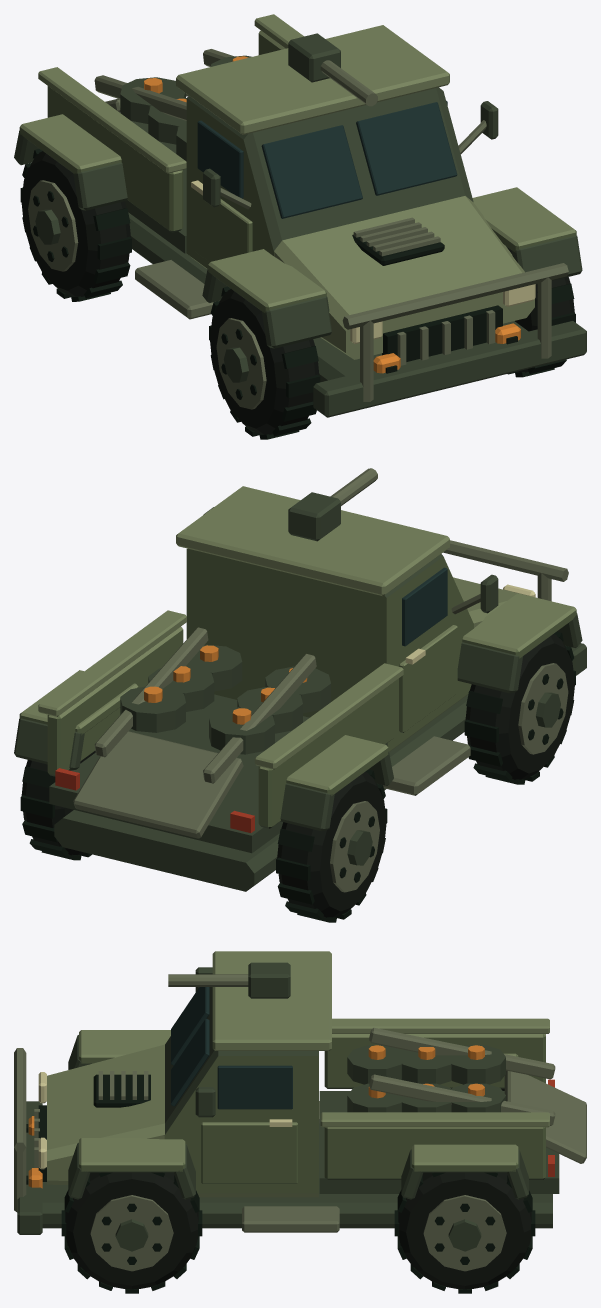
File: minelayer_field.glb
The picture shows the model from 3 angles, top to bottom: view 1: azimuth 30°, elevation 25°; view 2: azimuth 150°, elevation 25°; view 3: azimuth 270°, elevation 25°; orthographic projection. The views are drawn at different scales.
Visible parts, largest first — view 1: Body, Wheel_-1_1.18, Wheel_-1_-1.17, WeaponPitch, Wheel_1_-1.17; view 2: Body, Wheel_-1_1.18, Wheel_-1_-1.17, Wheel_1_1.18, WeaponPitch; view 3: Body, Wheel_1_1.18, Wheel_1_-1.17, WeaponPitch.
Part boxes in pixels (x1=…): Body: x1=14, y1=14, x2=586, y2=417; Wheel_-1_1.18: x1=20, y1=148, x2=131, y2=301; Wheel_-1_-1.17: x1=209, y1=286, x2=320, y2=439; WeaponPitch: x1=288, y1=33, x2=377, y2=106; Wheel_1_-1.17: x1=506, y1=246, x2=575, y2=377; Body: x1=14, y1=486, x2=586, y2=891; Wheel_-1_1.18: x1=276, y1=769, x2=387, y2=922; Wheel_-1_-1.17: x1=464, y1=631, x2=575, y2=784; Wheel_1_1.18: x1=20, y1=751, x2=95, y2=860; WeaponPitch: x1=288, y1=468, x2=377, y2=541; Body: x1=14, y1=951, x2=586, y2=1234; Wheel_1_1.18: x1=394, y1=1172, x2=535, y2=1293; Wheel_1_-1.17: x1=61, y1=1172, x2=202, y2=1293; WeaponPitch: x1=168, y1=962, x2=290, y2=998.
Bounding box in the file's own units: 3.95 × 3.53 × 6.95.
1 material, 1 textured.
